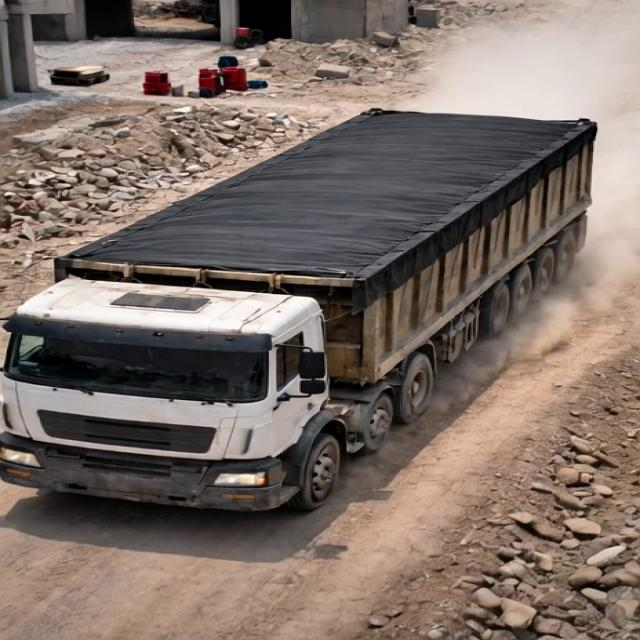trailer: (57, 105, 590, 289)
truck: (5, 86, 610, 518)
